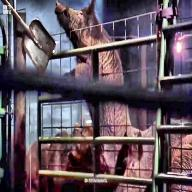boar: (48, 0, 146, 192)
